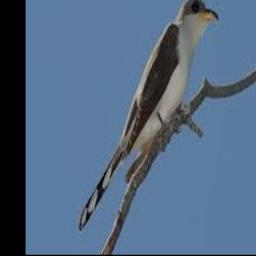Cuckoo: (79, 0, 218, 233)
